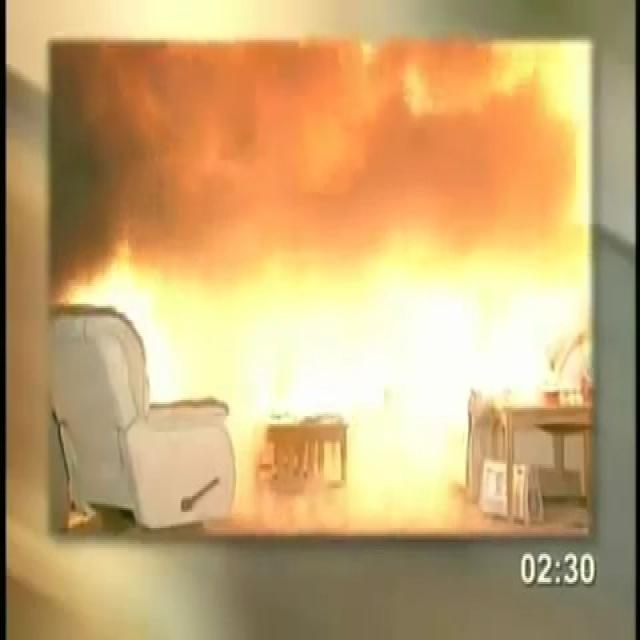Fire: (48, 41, 596, 442)
